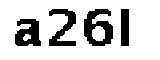2: (46, 6, 78, 51)
6: (81, 6, 114, 52)
I: (117, 4, 136, 50)
a: (10, 14, 43, 50)
